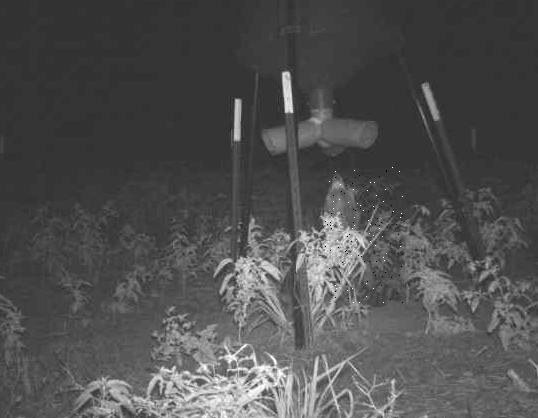Raccoon: (325, 168, 404, 304)
